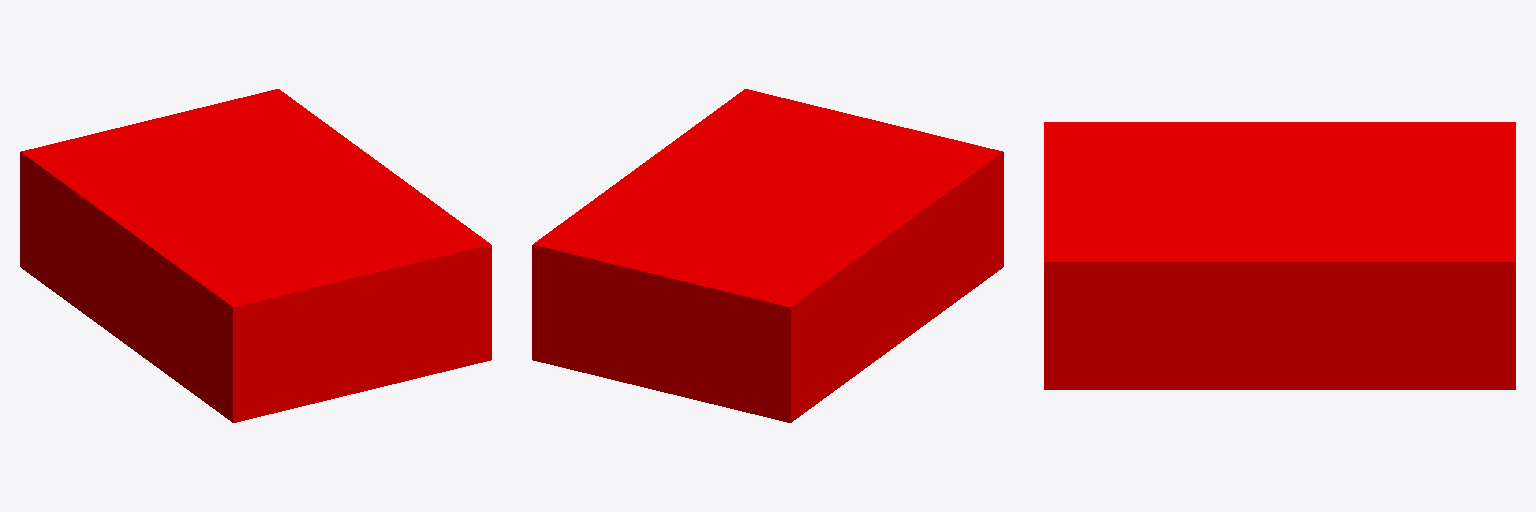
The robot description file, URDF, robot "rectangle-object":
<?xml version="1.0"?>
<robot name="rectangle-object">

  <link name="base_link">
    <visual>
      <geometry>
        <mesh filename="package://asset/real-world/rectangle-object/rectangle-object.obj" scale="1 1 1"/>
      </geometry>
      <material name="color">
        <color rgba="1 0 0 1"/> <!-- Red. a: transparency. -->
      </material>
    </visual>
    <collision>
      <geometry>
        <mesh filename="package://asset/real-world/rectangle-object/rectangle-object.obj" scale="1 1 1"/>
      </geometry>
    </collision>
    <inertial>
      <mass value="10"/> 
      <origin xyz="0 0 0"/> 
      <inertia ixx="1" iyy="1" izz="1"/> 
    </inertial>

  </link>

</robot>

--- Render facts (derived) ---
The picture shows the robot from 3 angles, left to right: view 1: azimuth 30°, elevation 25°; view 2: azimuth 150°, elevation 25°; view 3: azimuth 270°, elevation 25°; orthographic projection.
Robot: rectangle-object — 1 links, 0 joints (none); root link base_link; default pose: every joint at zero.
Visible links, largest first — view 1: base_link; view 2: base_link; view 3: base_link.
Boxes of the visible links, x1=… form: base_link: x1=20, y1=89, x2=491, y2=422; base_link: x1=532, y1=89, x2=1003, y2=422; base_link: x1=1044, y1=122, x2=1515, y2=389.
Size in the robot's own frame: 0.7 by 1 by 0.3 metres.
Meshes: 1 distinct files referenced, 1 mesh visuals loaded (1 OBJ).